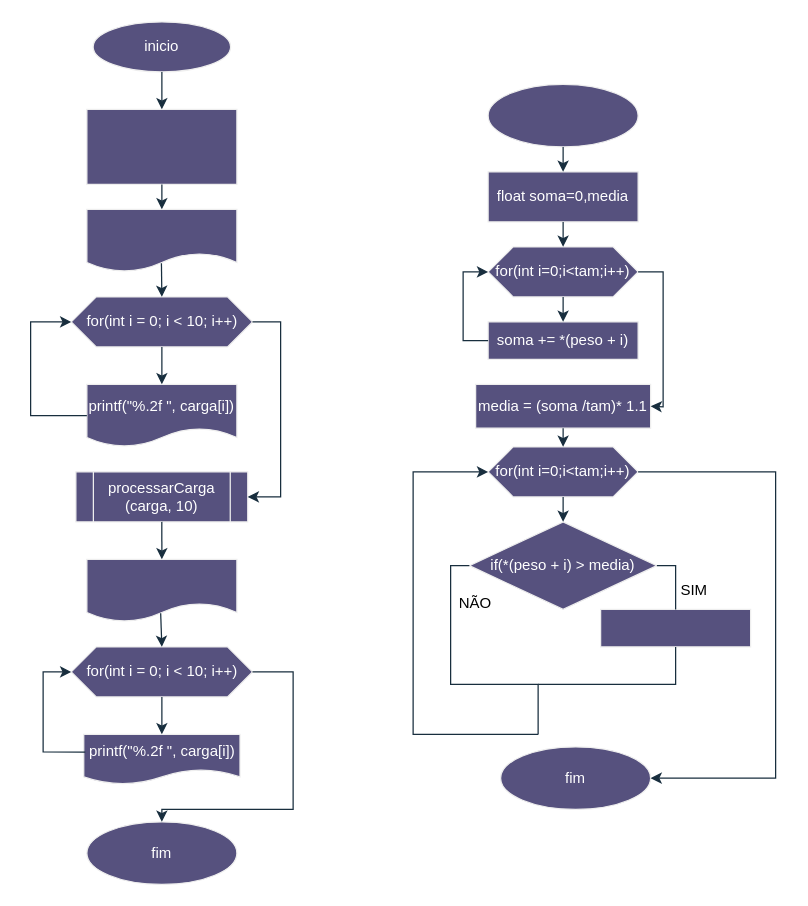
Image size: 808x906. Some labels were removed from this diagram. The shapes that lost their labels are listed below. From the top down, each one's centre as x and y in pixels, then its label:
point 562,115: void processarCarga(float *peso, int tam)
point 161,146: float carga[10]
point 161,240: printf("Antes:\n")
point 161,590: printf("\nDepois:\n")
point 675,627: *(peso + i) *=0.95
